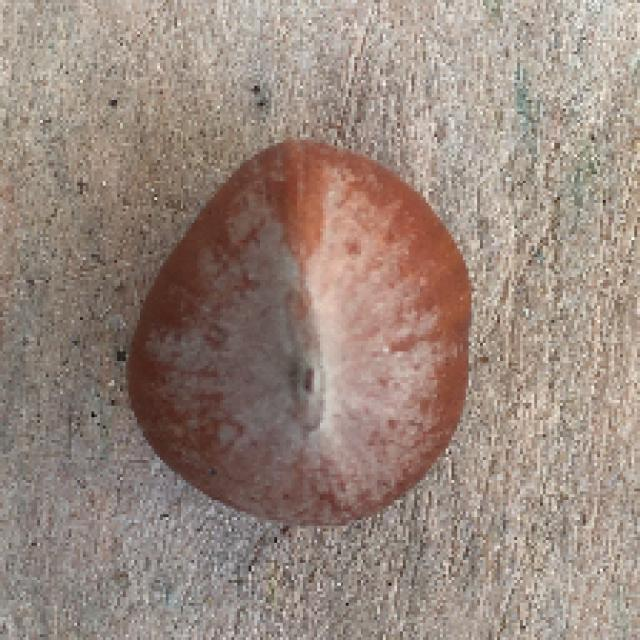qualityHazelnut: (106, 128, 481, 527)
